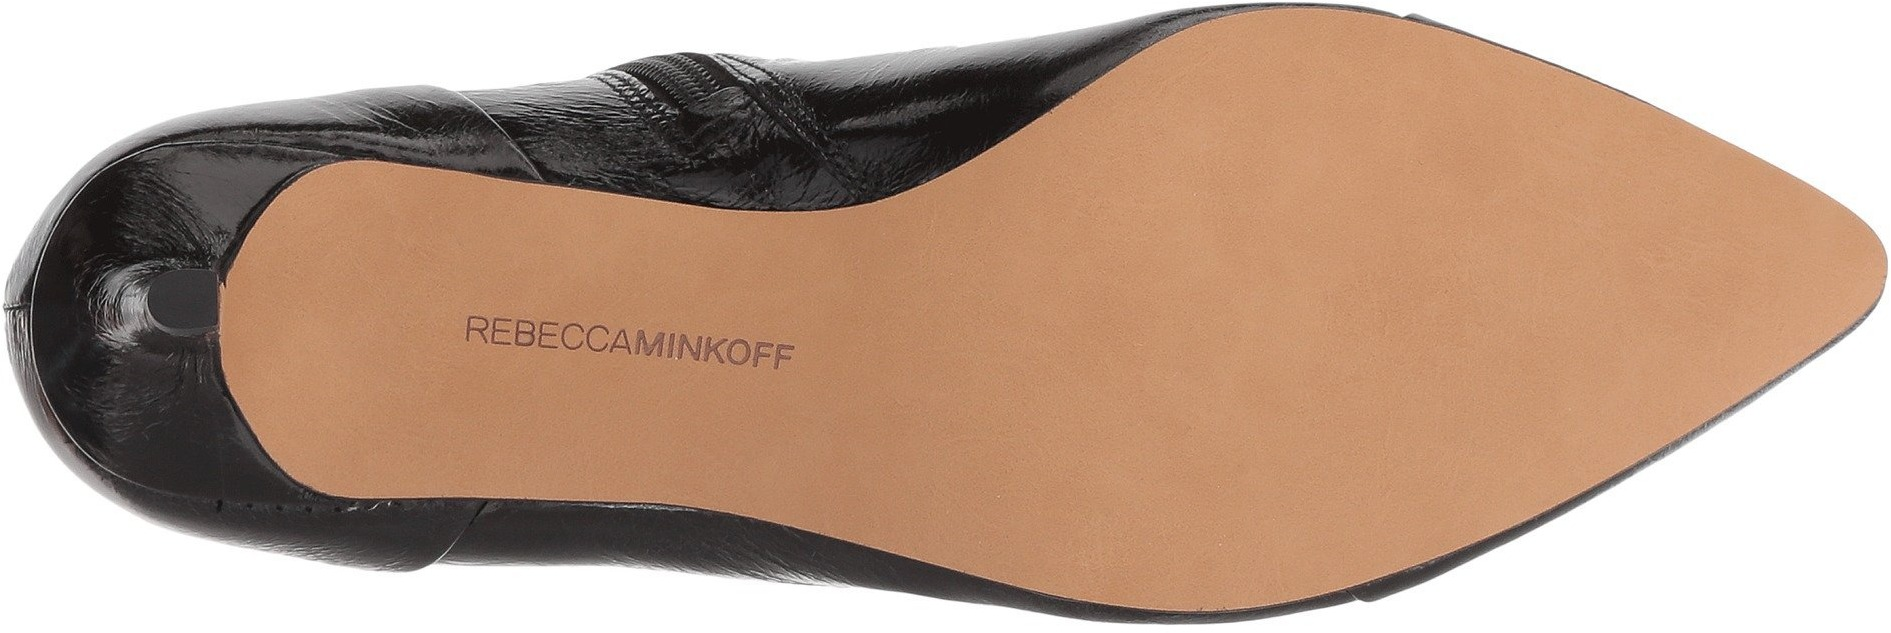circle: (445, 281, 800, 436)
other: (1067, 356, 1323, 590), (1067, 123, 1315, 353), (827, 229, 1061, 453), (1327, 294, 1548, 508), (1561, 143, 1762, 377), (1324, 84, 1557, 283), (159, 279, 210, 322)
text: (445, 281, 800, 436), (603, 307, 669, 374), (734, 313, 802, 379), (529, 307, 589, 373), (674, 320, 734, 379), (472, 300, 522, 362)
